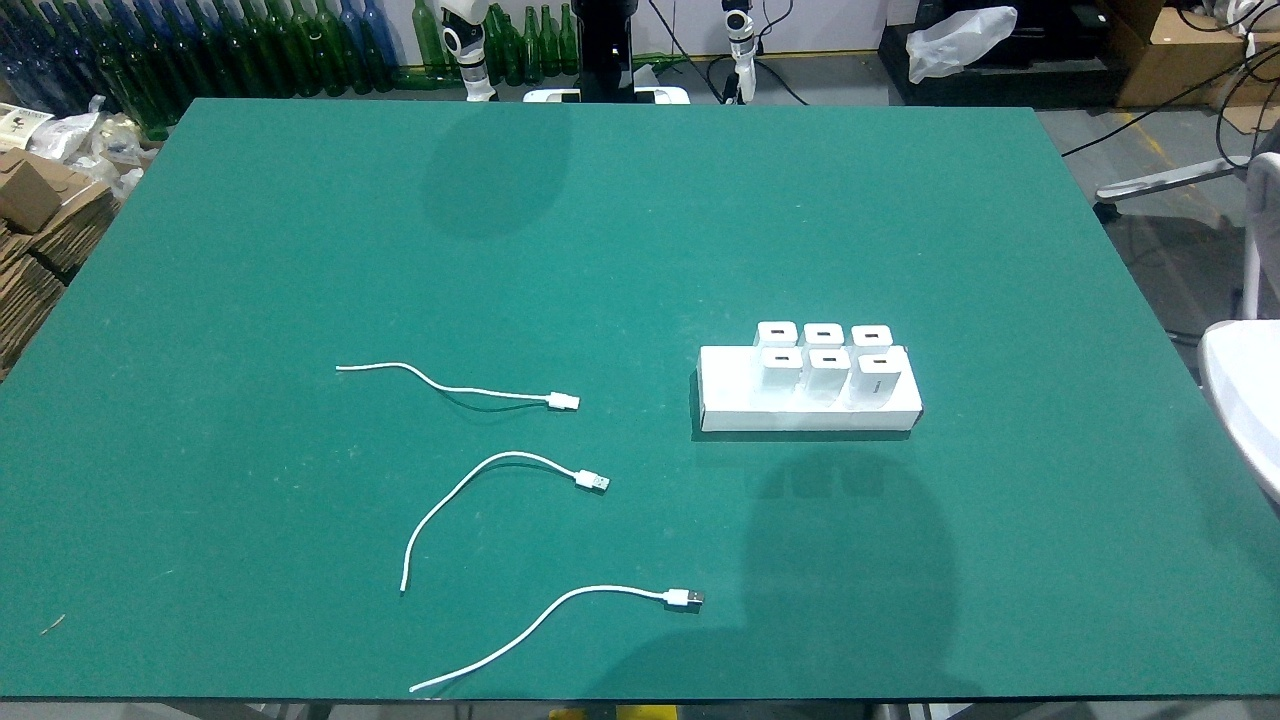usb_a_port: (772, 354, 794, 363), (863, 332, 880, 341), (820, 356, 839, 364), (816, 330, 834, 338), (872, 357, 888, 366), (768, 328, 787, 335)
